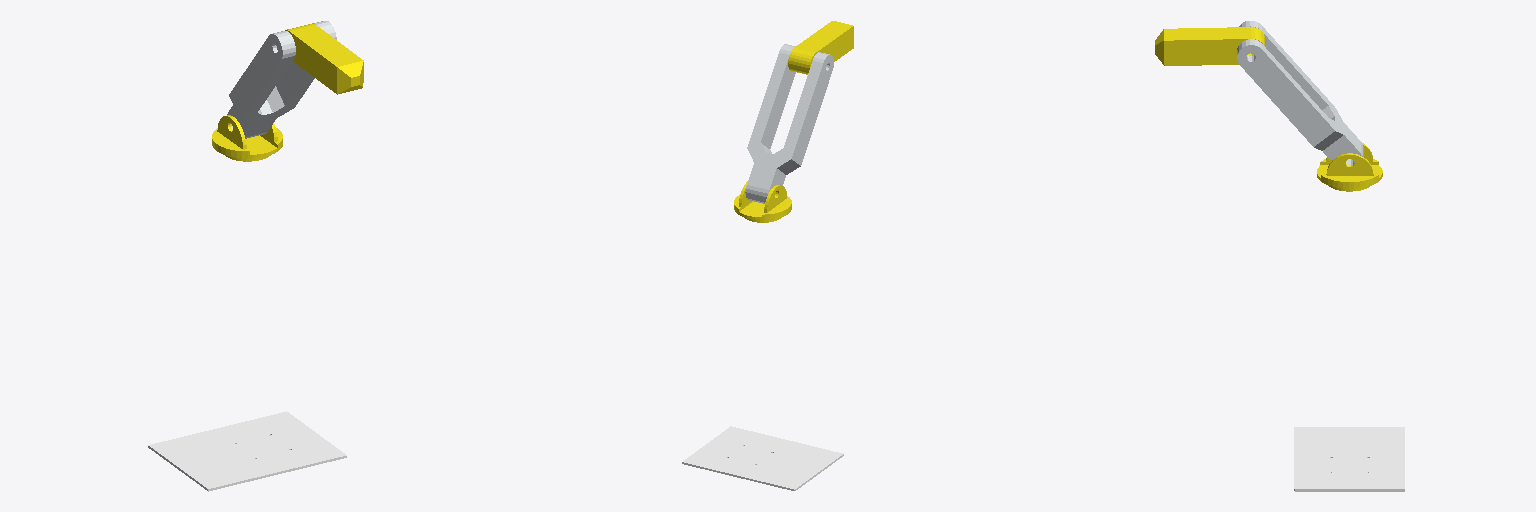
robot.urdf — Arm_basis:
<?xml version="1.0" encoding="utf-8"?>
<!-- This URDF was automatically created by SolidWorks to URDF Exporter! Originally created by [author] ([email redacted]) 
     Commit Version: 1.5.1-0-g916b5db  Build Version: 1.5.7152.31018
     For more information, please see http://wiki.ros.org/sw_urdf_exporter -->
<robot
  name="Arm_basis">


 <!-- Joints Control in Gazebo -->
  <gazebo>
    <plugin name="gazebo_ros_control" filename="libgazebo_ros_control.so"/>
  </gazebo>



  <link 
	  name="world"/>

  <link
    name="base_link">
    <inertial>
      <origin
        xyz="1.2634E-17 0.42198 -7.7392E-18"
        rpy="0 0 0" />
      <mass
        value="34.843" />
      <inertia
        ixx="2.1897"
        ixy="-9.7311E-18"
        ixz="1.4022E-18"
        iyy="0.24101"
        iyz="-5.8141E-18"
        izz="2.1897" />
    </inertial>
    <visual>
      <origin
        xyz="0 0 0"
        rpy="0 0 0" />
      <geometry>
        <mesh
          filename="package://arm_description/meshes/base_link.STL" />
      </geometry>
      <material
        name="">
        <color
          rgba="1 1 1 1" />
      </material>
    </visual>
    <collision>
      <origin
        xyz="0 0 0"
        rpy="0 0 0" />
      <geometry>
        <mesh
          filename="package://arm_description/meshes/base_link.STL" />
      </geometry>
    </collision>
  </link>

  <link
    name="L1">
    <inertial>
      <origin
        xyz="2.6604E-17 0.02786 -1.9828E-17"
        rpy="0 0 0" />
      <mass
        value="0.72919" />
      <inertia
        ixx="0.0013291"
        ixy="-1.1635E-19"
        ixz="5.3363E-20"
        iyy="0.0024283"
        iyz="-6.7654E-20"
        izz="0.0017056" />
    </inertial>
    <visual>
      <origin
        xyz="0 0 0"
        rpy="0 0 0" />
      <geometry>
        <mesh
          filename="package://arm_description/meshes/L1.STL" />
      </geometry>
      <material
        name="">
        <color
          rgba="1 0.93725 0.13725 1" />
      </material>
    </visual>
    <collision>
      <origin
        xyz="0 0 0"
        rpy="0 0 0" />
      <geometry>
        <mesh
          filename="package://arm_description/meshes/L1.STL" />
      </geometry>
    </collision>
  </link>
  
  <joint 
    name="fixed"
    type="fixed">
    <origin
      xyz="0 0 0"
      />
    <parent
      link="world" />
    <child
      link="base_link"/>
  
</joint>  
  
  <joint
    name="J0"
    type="revolute">
    <origin
      xyz="0 0 0.83"
      rpy="1.5708 0 -3.1327" />
    <parent
      link="base_link" />
    <child
      link="L1" />
    <axis
      xyz="0 1 0" />
    <limit
      lower="-3.142"
      upper="3.142"
      effort="0"
      velocity="0.2" />
  </joint>
  <link
    name="L2">
    <inertial>
      <origin
        xyz="0.21787 -4.4409E-16 -5.1277E-18"
        rpy="0 0 0" />
      <mass
        value="2.8363" />
      <inertia
        ixx="0.010262"
        ixy="1.1015E-16"
        ixz="-2.4137E-17"
        iyy="0.06642"
        iyz="-1.1032E-17"
        izz="0.059986" />
    </inertial>
    <visual>
      <origin
        xyz="0 0 0"
        rpy="0 0 0" />
      <geometry>
        <mesh
          filename="package://arm_description/meshes/L2.STL" />
      </geometry>
      <material
        name="">
        <color
          rgba="0.89804 0.91765 0.92941 1" />
      </material>
    </visual>
    <collision>
      <origin
        xyz="0 0 0"
        rpy="0 0 0" />
      <geometry>
        <mesh
          filename="package://arm_description/meshes/L2.STL" />
      </geometry>
    </collision>
  </link>i


  <joint
    name="J1"
    type="revolute">
    <origin
      xyz="0 0.0781 0"
      rpy="1.5708 0.68191 1.5708" />
    <parent
      link="L1" />
    <child
      link="L2" />
    <axis
      xyz="0 0 -1" />
    <limit
      lower="-3.142"
      upper="3.142"
      effort="0"
      velocity="0.2" />
  </joint>
  <link
    name="L3">
    <inertial>
      <origin
        xyz="4.4409E-16 0.10085 0.0019"
        rpy="0 0 0" />
      <mass
        value="1.2325" />
      <inertia
        ixx="0.010475"
        ixy="-4.7739E-17"
        ixz="7.9071E-19"
        iyy="0.0018442"
        iyz="-5.9462E-19"
        izz="0.010442" />
    </inertial>
    <visual>
      <origin
        xyz="0 0 0"
        rpy="0 0 0" />
      <geometry>
        <mesh
          filename="package://arm_description/meshes/L3.STL" />
      </geometry>
      <material
        name="">
        <color
          rgba="1 0.93725 0.13725 1" />
      </material>
    </visual>
    <collision>
      <origin
        xyz="0 0 0"
        rpy="0 0 0" />
      <geometry>
        <mesh
          filename="package://arm_description/meshes/L3.STL" />
      </geometry>
    </collision>
  </link>
  <joint
    name="J2"
    type="revolute">
    <origin
      xyz="0.4238 0 0"
      rpy="-3.1416 0 0.66365" />
    <parent
      link="L2" />
    <child
      link="L3" />
    <axis
      xyz="0 0 1" />
    <limit
      lower="-3.142"
      upper="3.142"
      effort="0"
      velocity="0.2" />
  </joint>

  <transmission name="tran0">
    <type>transmission_interface/SimpleTransmission</type>
    <joint name="J0">
      <hardwareInterface>hardware_interface/EffortJointInterface</hardwareInterface>
    </joint>
    <actuator name="motor0">
      <hardwareInterface>hardware_interface/EffortJointInterface</hardwareInterface>
      <mechanicalReduction>1</mechanicalReduction>
    </actuator>
  </transmission>

  <transmission name="tran1">
    <type>transmission_interface/SimpleTransmission</type>
    <joint name="J1">
      <hardwareInterface>hardware_interface/EffortJointInterface</hardwareInterface>
    </joint>
    <actuator name="motor1">
      <hardwareInterface>hardware_interface/EffortJointInterface</hardwareInterface>
      <mechanicalReduction>1</mechanicalReduction>
    </actuator>
  </transmission>

    <transmission name="tran2">
    <type>transmission_interface/SimpleTransmission</type>
    <joint name="J2">
      <hardwareInterface>hardware_interface/EffortJointInterface</hardwareInterface>
    </joint>
    <actuator name="motor2">
      <hardwareInterface>hardware_interface/EffortJointInterface</hardwareInterface>
      <mechanicalReduction>1</mechanicalReduction>
    </actuator>
  </transmission>







</robot>



--- Facts derived from the render (not from the file) ---
Views: 3 orthographic renders of the robot side by side, from view 1: azimuth 30°, elevation 25°; view 2: azimuth 150°, elevation 25°; view 3: azimuth 270°, elevation 25°.
Robot: Arm_basis — 5 links, 4 joints (3 revolute, 1 fixed); root link world; default pose: every joint at zero.
Visible links, largest first — view 1: base_link, L2, L3, L1; view 2: L2, base_link, L3, L1; view 3: base_link, L2, L3, L1.
Link boxes in pixels (<box>): base_link: <box>148,411,346,491</box>; L2: <box>227,21,336,138</box>; L3: <box>285,23,363,94</box>; L1: <box>212,115,282,161</box>; L2: <box>745,44,833,203</box>; base_link: <box>682,426,843,490</box>; L3: <box>788,21,853,74</box>; L1: <box>734,181,791,222</box>; base_link: <box>1294,427,1404,491</box>; L2: <box>1237,21,1363,165</box>; L3: <box>1155,27,1265,65</box>; L1: <box>1317,143,1382,191</box>.
Size in the robot's own frame: 0.4 by 0.6774 by 1.28 metres.
4 mesh visuals loaded from 4 distinct referenced files (4 binary STL).